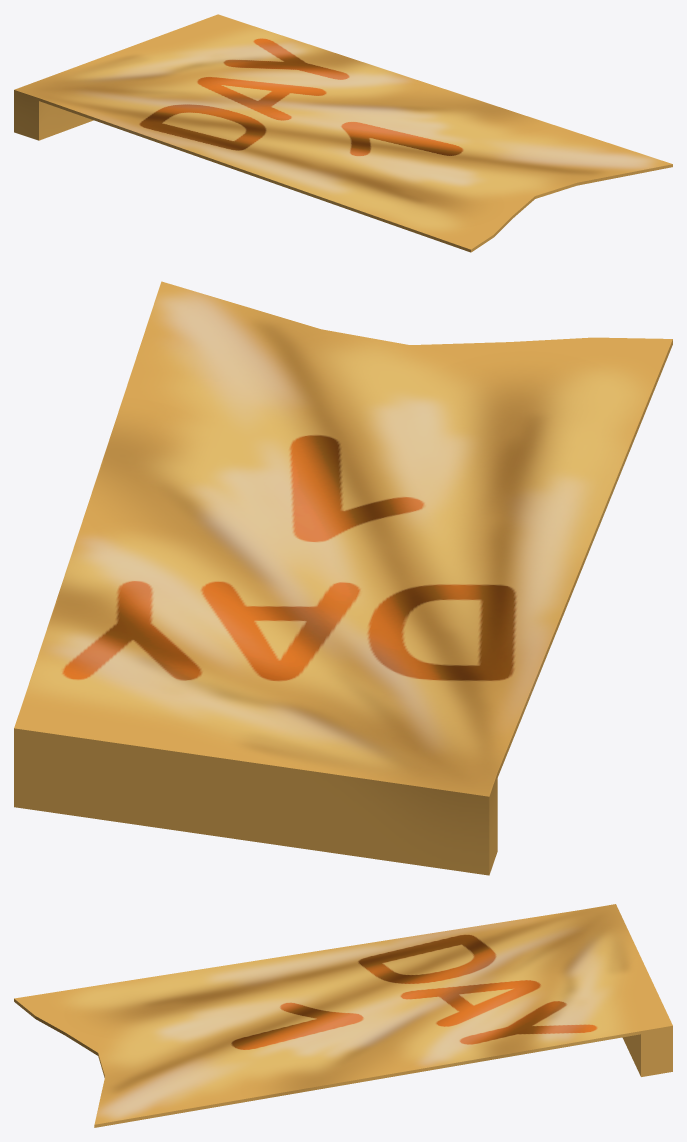
File: level_select_bookmark_1.glb
The picture shows the model from 3 angles, top to bottom: view 1: azimuth 30°, elevation 25°; view 2: azimuth 150°, elevation 25°; view 3: azimuth 270°, elevation 25°; orthographic projection. The views are drawn at different scales.
Visible parts, largest first — view 1: Cube; view 2: Cube; view 3: Cube.
Boxes of the visible parts, x1,y1,x2,y2 form: Cube: (14,14,672,252); Cube: (14,281,672,875); Cube: (14,904,672,1127).
Size of the model in its own units: 0.6273 by 0.0611 by 0.7912.
Materials: 1 (1 with a texture image).
